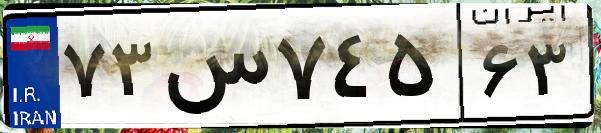3: (525, 38, 570, 115), (110, 28, 158, 98)
4: (330, 28, 385, 110)
5: (385, 28, 445, 110)
6: (475, 38, 525, 113)
7: (270, 28, 330, 110), (57, 26, 110, 100)
س: (158, 20, 270, 120)
